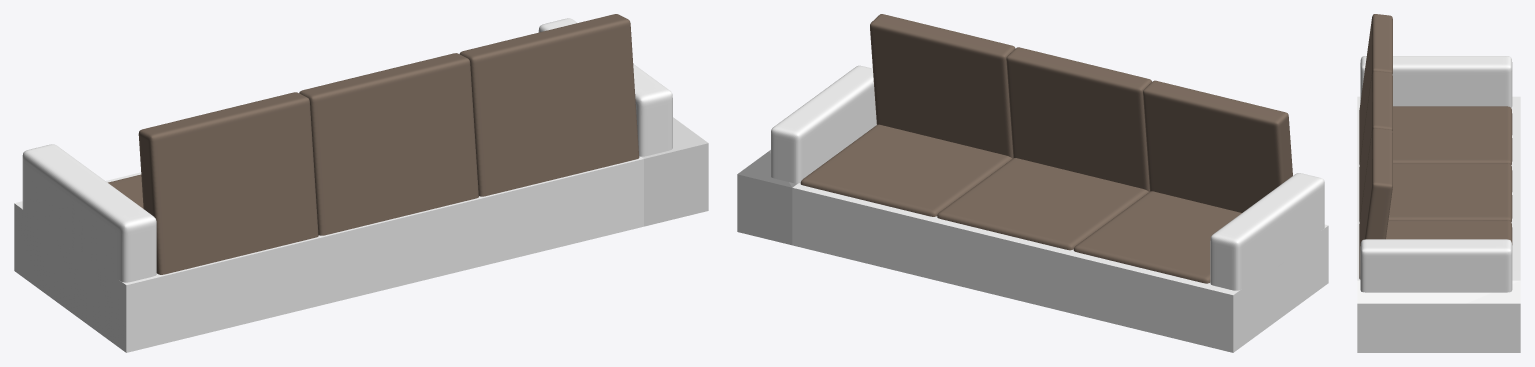
3 renders of one model, left to right at view 1: azimuth 30°, elevation 25°; view 2: azimuth 150°, elevation 25°; view 3: azimuth 270°, elevation 25°, orthographic. The views are drawn at different scales.
Parts seen in each view (by area): view 1: object 1, MainCouch_BackCushion_1, MainCouch_BackCushion_2, MainCouch_BackCushion_3, MainCouch_Armrest_Left, MainCouch_Armrest_Right, MainCouch_SeatCushion_1; view 2: object 1, MainCouch_BackCushion_3, MainCouch_BackCushion_2, MainCouch_BackCushion_1, MainCouch_SeatCushion_3, MainCouch_SeatCushion_2, MainCouch_SeatCushion_1, MainCouch_Armrest_Left, MainCouch_Armrest_Right; view 3: object 1, MainCouch_Armrest_Right, MainCouch_SeatCushion_2, MainCouch_SeatCushion_1, MainCouch_Armrest_Left, MainCouch_BackCushion_3, MainCouch_SeatCushion_3, MainCouch_BackCushion_1, MainCouch_BackCushion_2.
Boxes of the visible parts, left/top/right/bottom form: object 1: left=14, top=117, right=708, bottom=352; MainCouch_BackCushion_1: left=138, top=92, right=318, bottom=274; MainCouch_BackCushion_2: left=299, top=53, right=478, bottom=235; MainCouch_BackCushion_3: left=459, top=14, right=639, bottom=196; MainCouch_Armrest_Left: left=22, top=144, right=156, bottom=282; MainCouch_Armrest_Right: left=538, top=18, right=672, bottom=156; MainCouch_SeatCushion_1: left=108, top=174, right=143, bottom=208; object 1: left=737, top=150, right=1328, bottom=352; MainCouch_BackCushion_3: left=870, top=14, right=1015, bottom=158; MainCouch_BackCushion_2: left=1006, top=47, right=1151, bottom=191; MainCouch_BackCushion_1: left=1143, top=80, right=1292, bottom=212; MainCouch_SeatCushion_3: left=800, top=124, right=1012, bottom=216; MainCouch_SeatCushion_2: left=937, top=158, right=1148, bottom=250; MainCouch_SeatCushion_1: left=1073, top=191, right=1241, bottom=283; MainCouch_Armrest_Left: left=1210, top=173, right=1324, bottom=290; MainCouch_Armrest_Right: left=771, top=65, right=876, bottom=183; object 1: left=1357, top=96, right=1520, bottom=352; MainCouch_Armrest_Right: left=1360, top=239, right=1512, bottom=292; MainCouch_SeatCushion_2: left=1388, top=163, right=1512, bottom=221; MainCouch_SeatCushion_1: left=1392, top=106, right=1512, bottom=164; MainCouch_Armrest_Left: left=1360, top=56, right=1512, bottom=107; MainCouch_BackCushion_3: left=1359, top=128, right=1392, bottom=279; MainCouch_SeatCushion_3: left=1386, top=220, right=1512, bottom=244; MainCouch_BackCushion_1: left=1359, top=14, right=1392, bottom=164; MainCouch_BackCushion_2: left=1359, top=71, right=1392, bottom=221.
Size of the model in its own units: 5.81 by 1.9 by 1.94.
